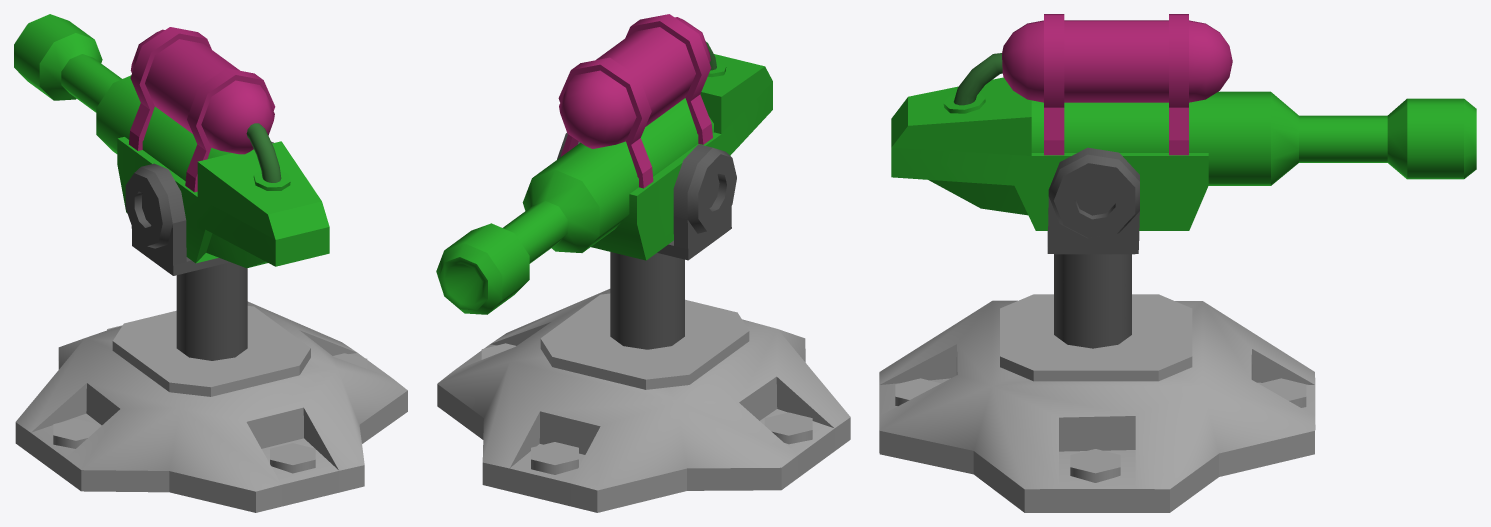
The model's file is Turel.FBX.
The picture shows the model from 3 angles, left to right: view 1: azimuth 30°, elevation 25°; view 2: azimuth 150°, elevation 25°; view 3: azimuth 270°, elevation 25°; orthographic projection. The views are drawn at different scales.
Visible parts, largest first — view 1: statewars_turret_base, statewars_turret_trunk, statewars_turret_ballon, statewars_turret_axis, statewars_turret_hose; view 2: statewars_turret_base, statewars_turret_trunk, statewars_turret_ballon, statewars_turret_axis; view 3: statewars_turret_base, statewars_turret_trunk, statewars_turret_ballon, statewars_turret_axis, statewars_turret_hose.
Part boxes in pixels (x1,y1,x2,y2): statewars_turret_base: [15, 301, 407, 512]; statewars_turret_trunk: [14, 14, 329, 268]; statewars_turret_ballon: [129, 27, 275, 192]; statewars_turret_axis: [125, 141, 273, 360]; statewars_turret_hose: [246, 123, 281, 182]; statewars_turret_base: [437, 289, 850, 512]; statewars_turret_trunk: [436, 54, 772, 314]; statewars_turret_ballon: [558, 14, 712, 188]; statewars_turret_axis: [557, 133, 736, 349]; statewars_turret_base: [879, 294, 1315, 512]; statewars_turret_trunk: [891, 77, 1476, 230]; statewars_turret_ballon: [1002, 14, 1232, 155]; statewars_turret_axis: [1047, 147, 1139, 348]; statewars_turret_hose: [953, 53, 1002, 105].
Bounding box in the file's own units: 216 × 234 × 310.
